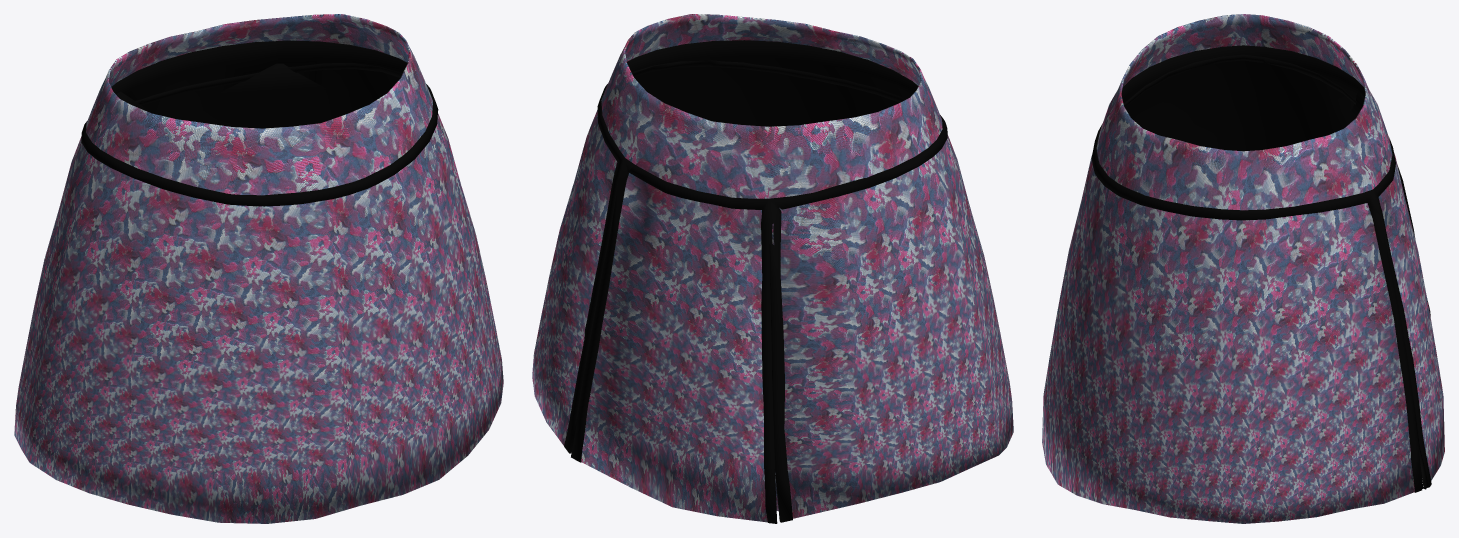
File: Saia.gltf
3 views of the same model, side by side, from view 1: azimuth 30°, elevation 25°; view 2: azimuth 150°, elevation 25°; view 3: azimuth 270°, elevation 25° (orthographic).
Parts seen in each view (by area): view 1: SaiaFechada; view 2: SaiaFechada; view 3: SaiaFechada.
Part boxes in pixels (x1=…): SaiaFechada: x1=14, y1=14, x2=503, y2=523; SaiaFechada: x1=532, y1=14, x2=1013, y2=523; SaiaFechada: x1=1042, y1=14, x2=1444, y2=523.
Bounding box in the file's own units: 51.58 × 40.59 × 40.02.
Materials: 2 (1 with a texture image).
